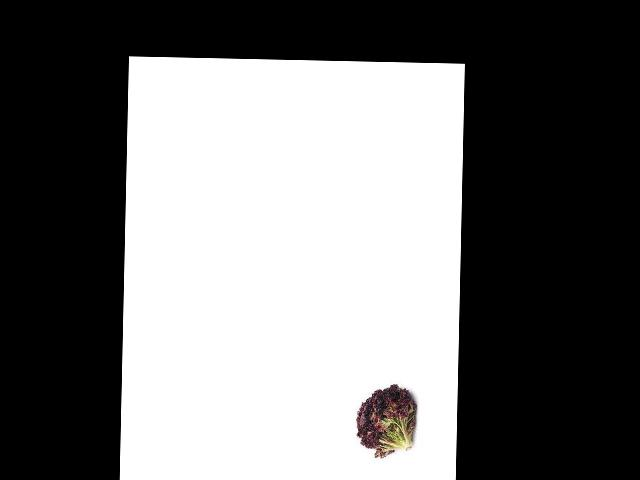lettuce: (349, 376, 417, 480)
